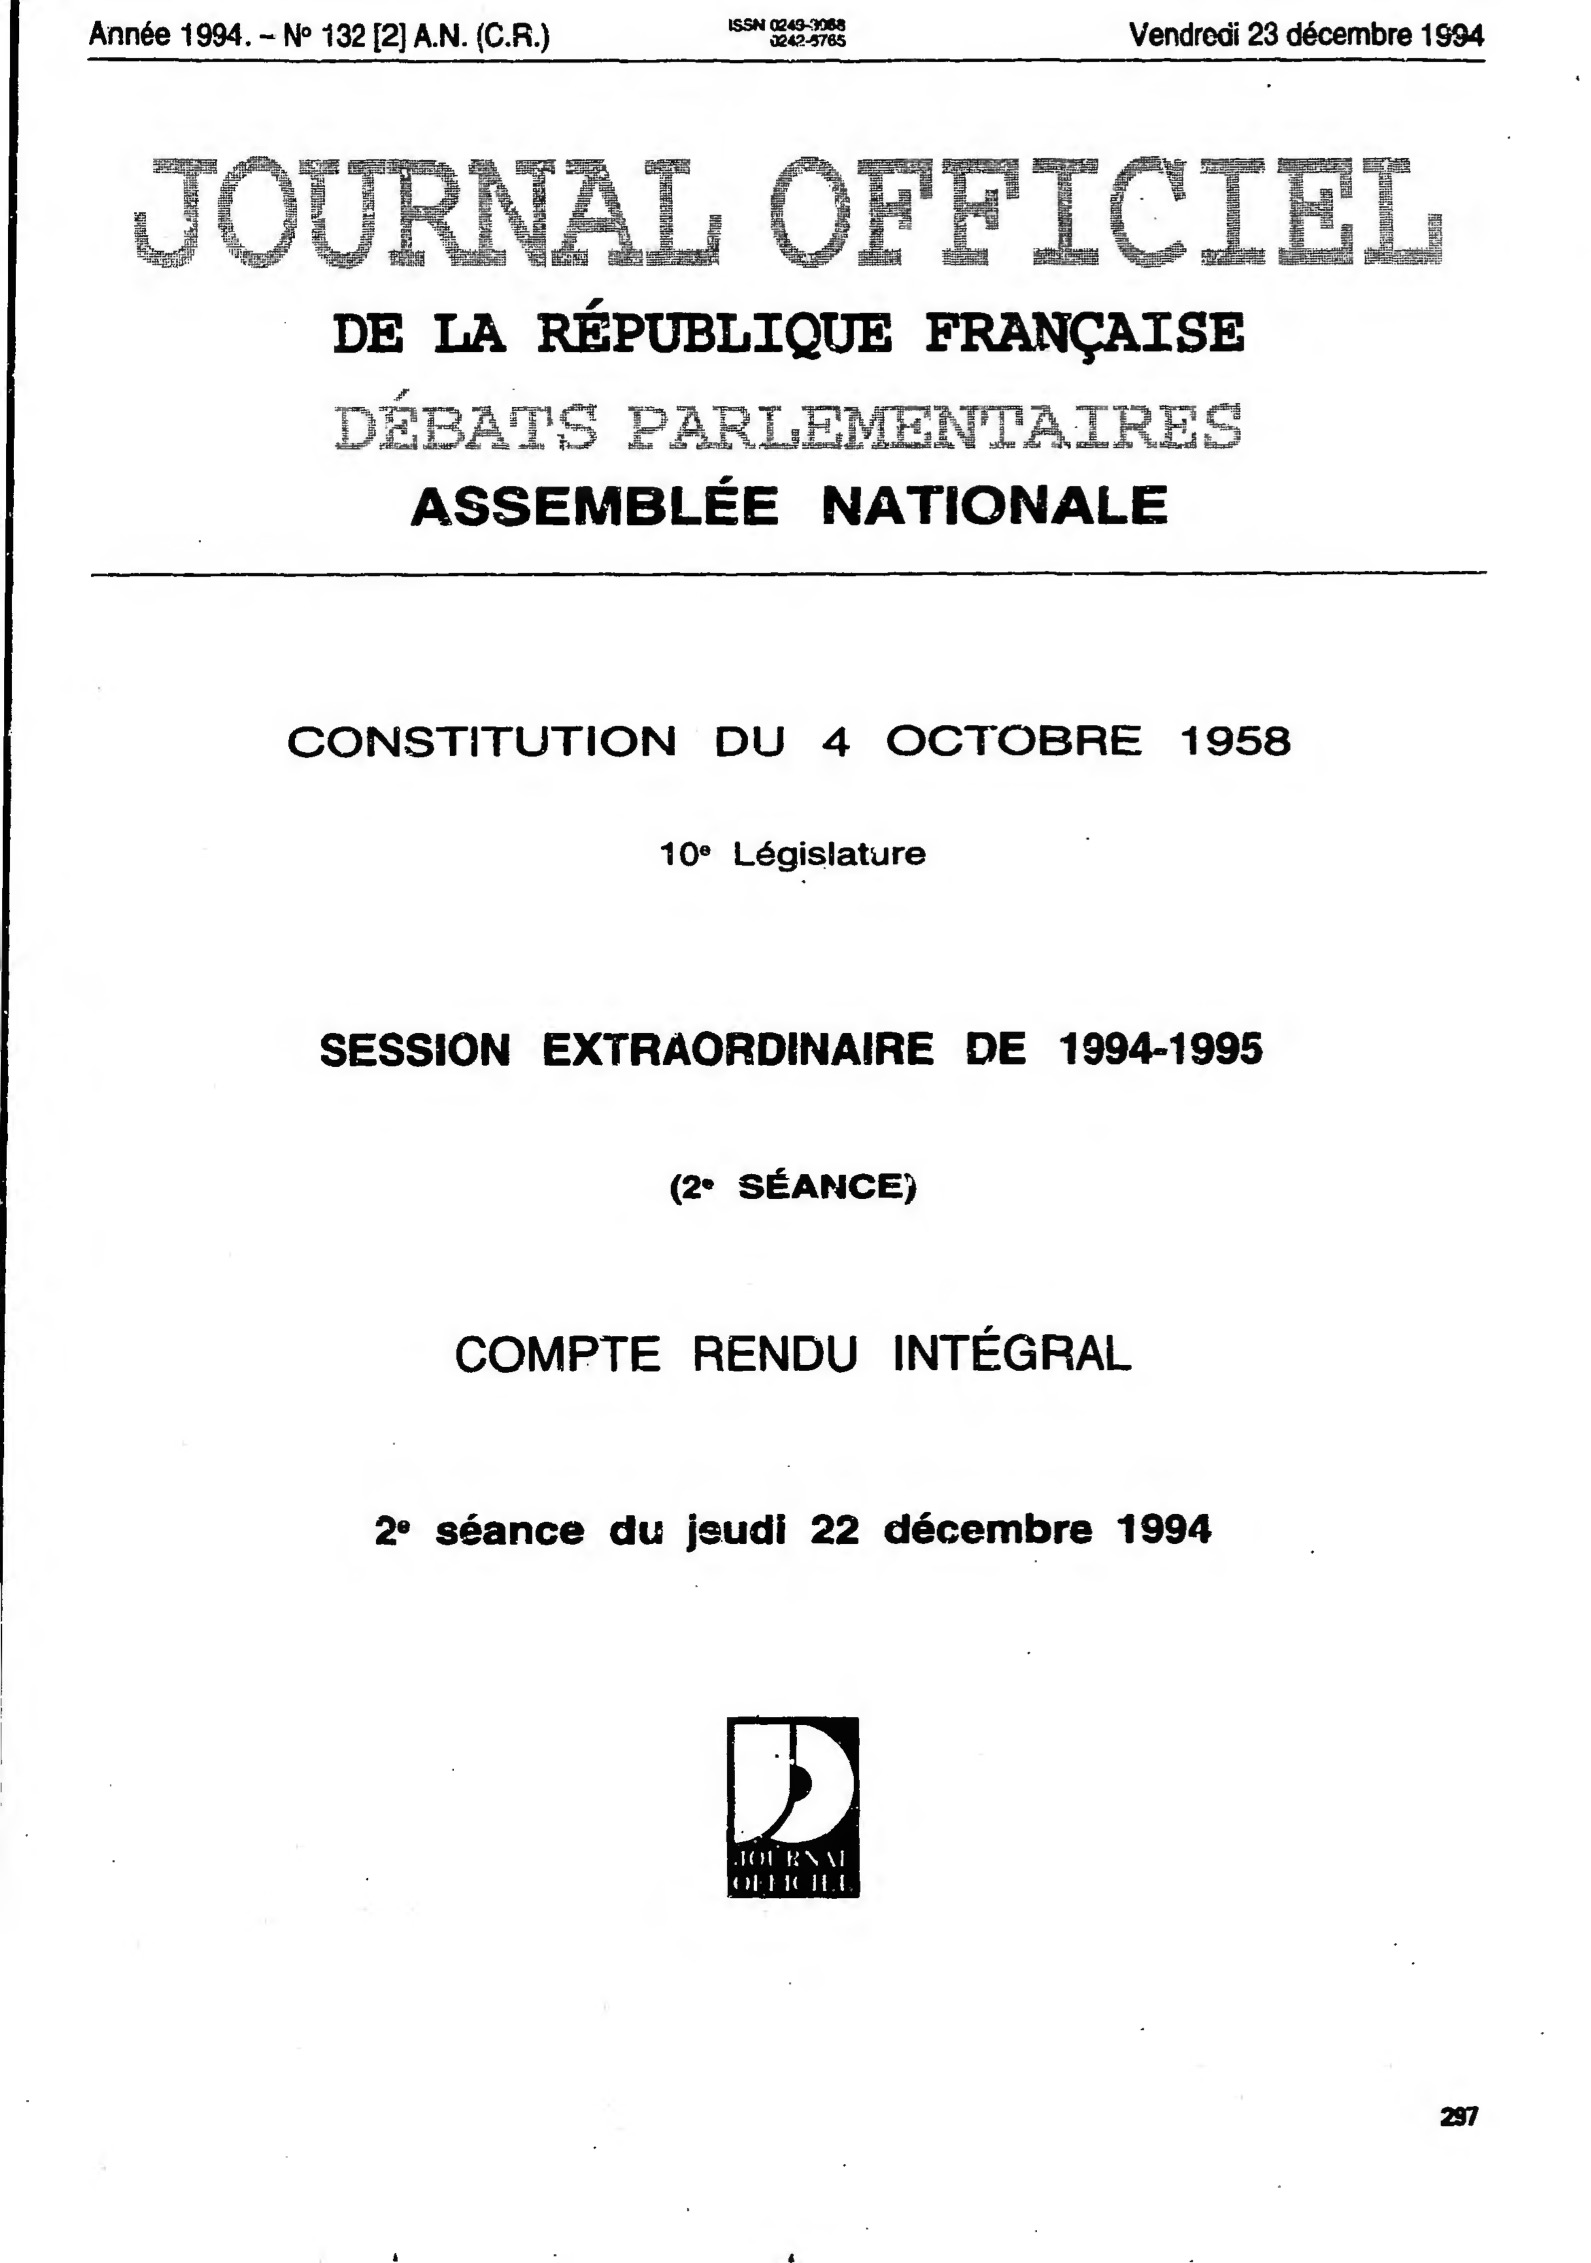MainZone-Date: (1119, 10, 1495, 57)
StampZone: (79, 10, 560, 62), (720, 10, 856, 57)
TitlePageZone: (1433, 2096, 1486, 2139)
TitlePageZone-Index: (71, 133, 1476, 1927)
